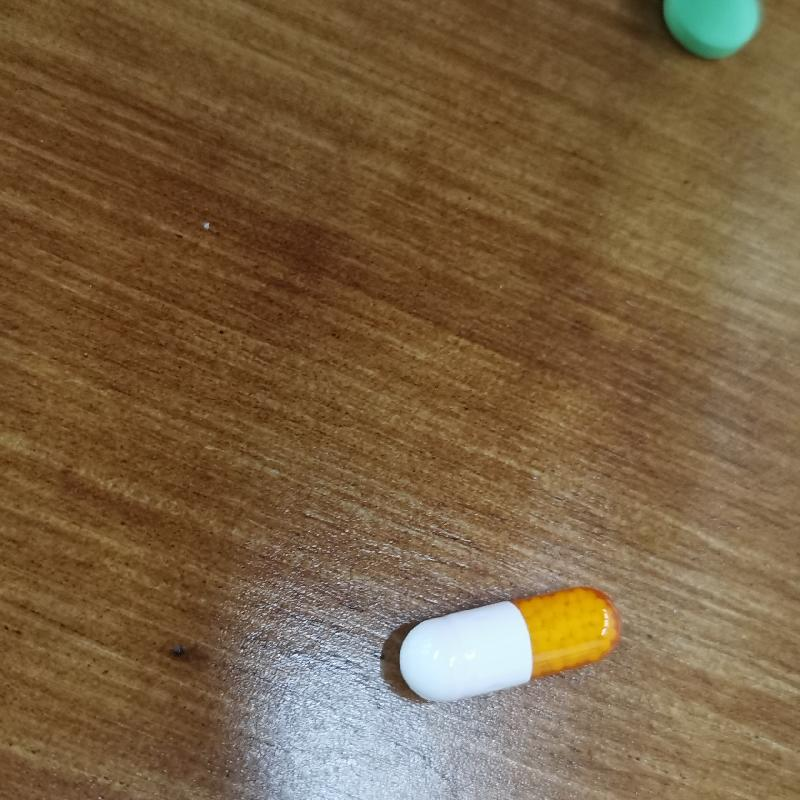pills: (386, 585, 642, 704)
